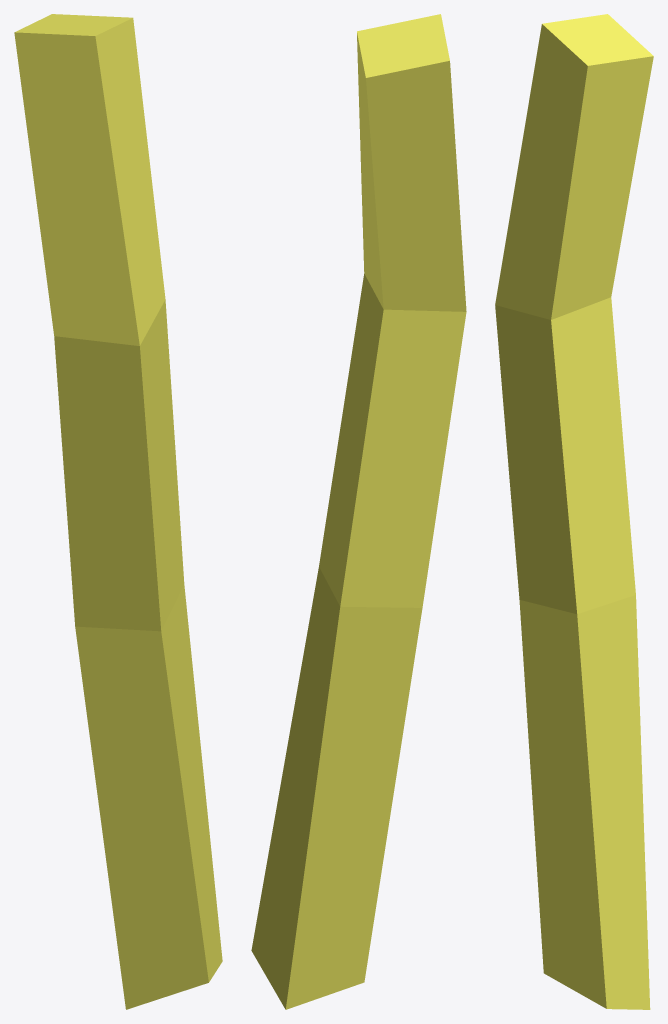
Rendered from bullet.gltf.
3 renders of one model, left to right at view 1: azimuth 30°, elevation 25°; view 2: azimuth 150°, elevation 25°; view 3: azimuth 270°, elevation 25°, orthographic. The views are drawn at different scales.
Parts seen in each view (by area): view 1: _______010; view 2: _______010; view 3: _______010.
Part boxes in pixels (x1=…): _______010: x1=14, y1=14, x2=222, y2=1009; _______010: x1=251, y1=14, x2=466, y2=1009; _______010: x1=495, y1=14, x2=653, y2=1009.
Bounding box in the file's own units: 0.5355 × 2.51 × 0.3849.
